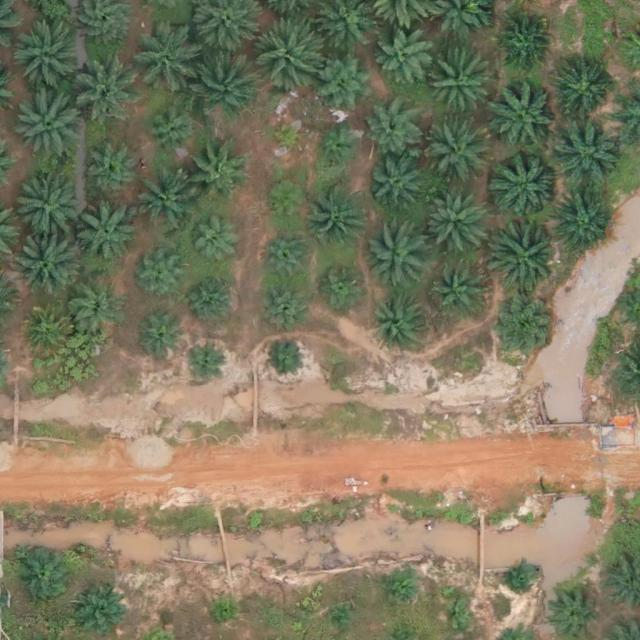Healthy: (551, 116, 622, 187), (489, 81, 560, 152), (10, 88, 81, 159), (492, 150, 562, 221), (491, 220, 561, 291), (252, 19, 322, 90), (189, 48, 259, 119), (71, 51, 141, 122), (12, 23, 82, 94), (14, 230, 84, 300), (9, 170, 79, 240), (550, 192, 613, 255), (425, 124, 488, 187), (367, 224, 430, 287), (315, 50, 378, 113), (185, 143, 248, 206), (75, 203, 138, 266), (493, 300, 555, 363), (429, 54, 491, 117), (423, 192, 485, 255), (132, 173, 194, 236), (132, 31, 194, 94), (310, 184, 372, 247), (17, 549, 72, 604), (558, 65, 613, 120), (434, 266, 489, 321), (366, 104, 421, 159), (367, 159, 422, 214), (262, 231, 317, 286), (256, 281, 311, 336), (18, 305, 73, 360), (145, 104, 200, 159), (85, 147, 140, 202), (497, 14, 551, 69), (373, 296, 427, 351), (377, 29, 431, 84), (71, 284, 125, 339)
Small: (77, 591, 124, 639), (264, 179, 311, 227), (189, 220, 236, 267), (191, 275, 238, 322), (319, 264, 366, 311), (315, 125, 362, 172), (139, 254, 186, 301), (138, 317, 185, 364), (183, 342, 223, 382), (269, 117, 308, 157), (267, 340, 306, 379), (504, 561, 535, 592), (443, 601, 474, 632), (386, 572, 417, 603), (329, 610, 353, 634), (213, 600, 236, 624)
